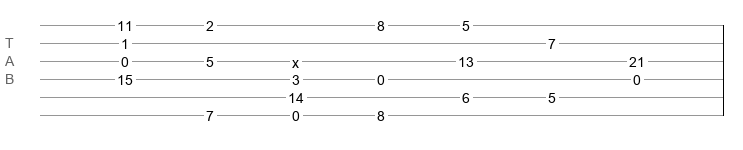0: (121, 54, 129, 64), (292, 108, 300, 118), (377, 72, 385, 82), (633, 72, 641, 82)
1: (121, 36, 129, 46)
11: (117, 18, 133, 28)
13: (458, 54, 474, 64)
14: (288, 90, 304, 100)
15: (117, 72, 133, 82)
2: (206, 18, 214, 28)
21: (629, 54, 645, 64)
3: (292, 72, 300, 82)
5: (206, 54, 214, 64), (462, 18, 470, 28), (548, 90, 556, 100)
6: (462, 90, 470, 100)
7: (206, 108, 214, 118), (548, 36, 556, 46)
8: (377, 18, 385, 28), (377, 108, 385, 118)
x: (292, 55, 299, 63)
